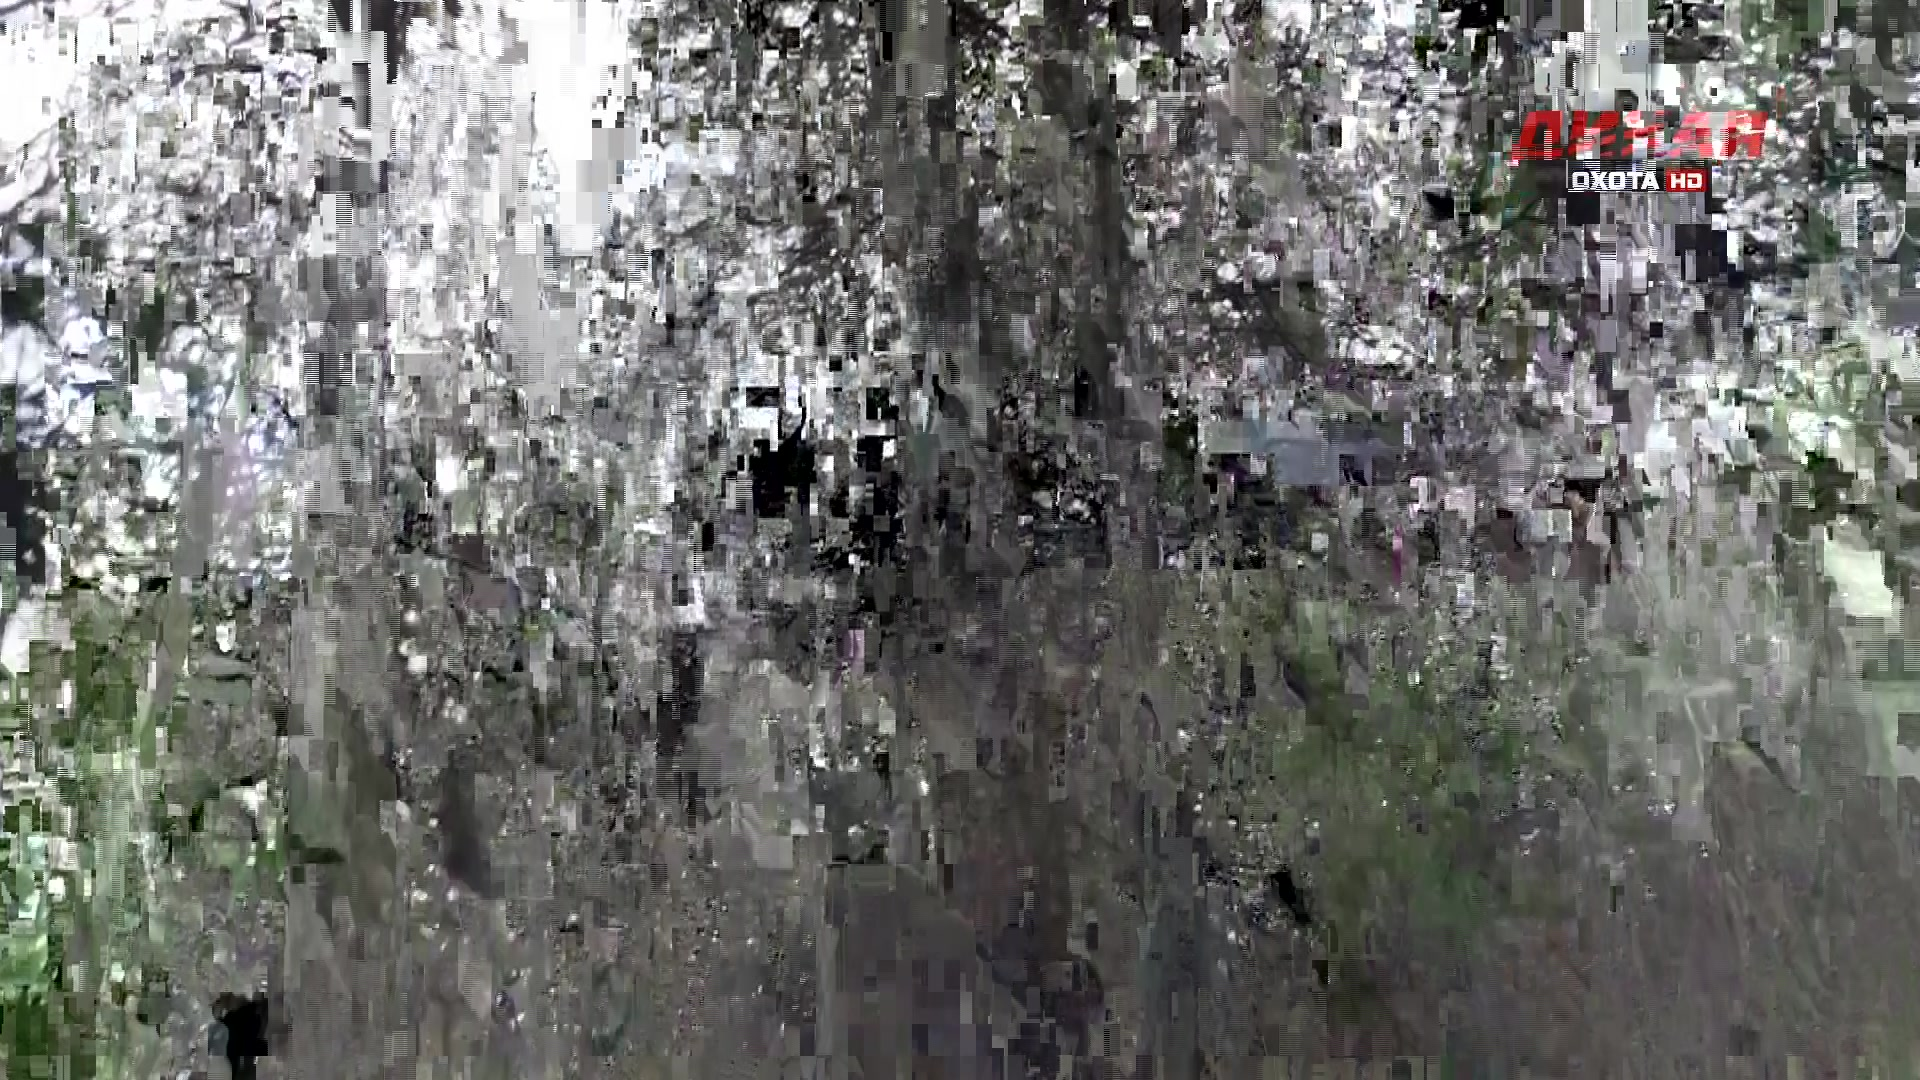Dikaya_Ohota_HD: (1506, 105, 1775, 199)
